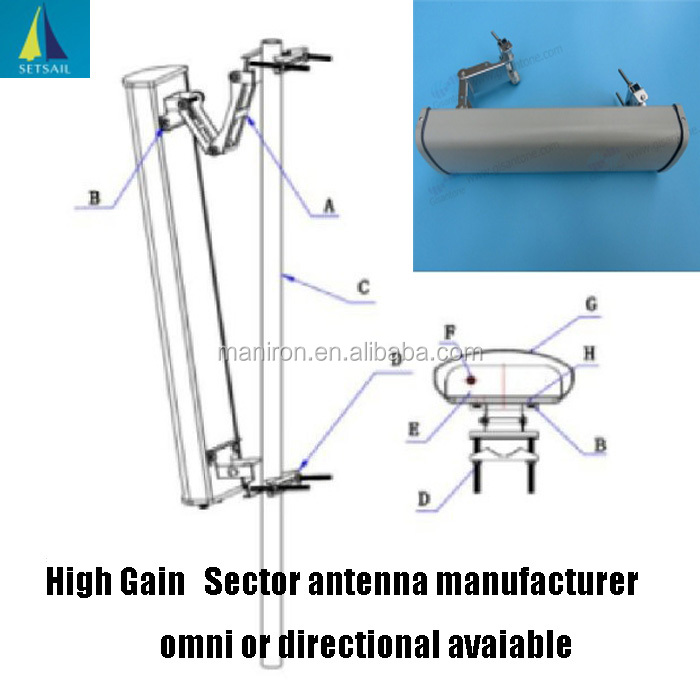sa: (107, 53, 293, 526), (429, 39, 685, 199)
